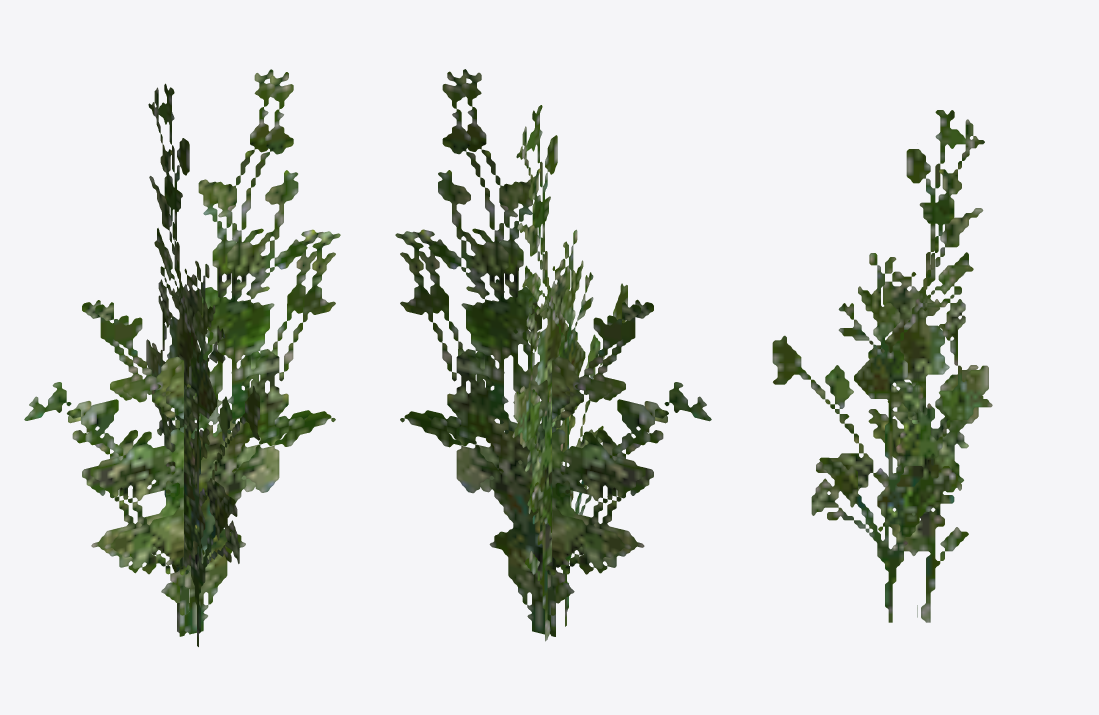
File: wrld_plant_med7.glb
The picture shows the model from 3 angles, left to right: view 1: azimuth 30°, elevation 25°; view 2: azimuth 150°, elevation 25°; view 3: azimuth 270°, elevation 25°; orthographic projection. The views are drawn at different scales.
Visible parts, largest first — view 1: wrld_plant_med7; view 2: wrld_plant_med7; view 3: wrld_plant_med7.
Part boxes in pixels (x1,y1,x2,y2): wrld_plant_med7: (24,69,340,646); wrld_plant_med7: (395,69,711,641); wrld_plant_med7: (772,110,992,622).
Bounding box in the file's own units: 5.11 × 8.03 × 4.59.
Materials: 1 (1 with a texture image).
